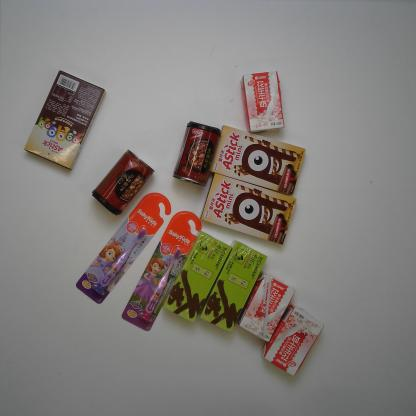Canned Food: (91, 150, 155, 216), (172, 119, 222, 187)
Dessert: (22, 69, 107, 171), (199, 174, 298, 244), (209, 126, 305, 196)
Instant Drink: (162, 230, 232, 322), (199, 240, 268, 332)
Milk: (260, 304, 323, 377), (237, 271, 295, 344), (239, 70, 286, 134)
Personal Hygiene: (73, 192, 171, 306), (121, 210, 201, 332)
